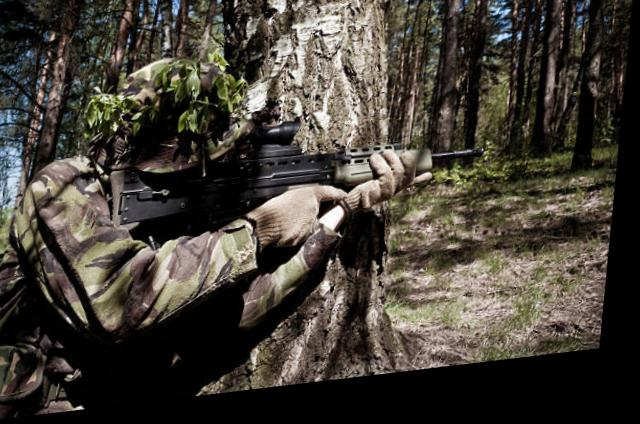other: (0, 46, 316, 421)
